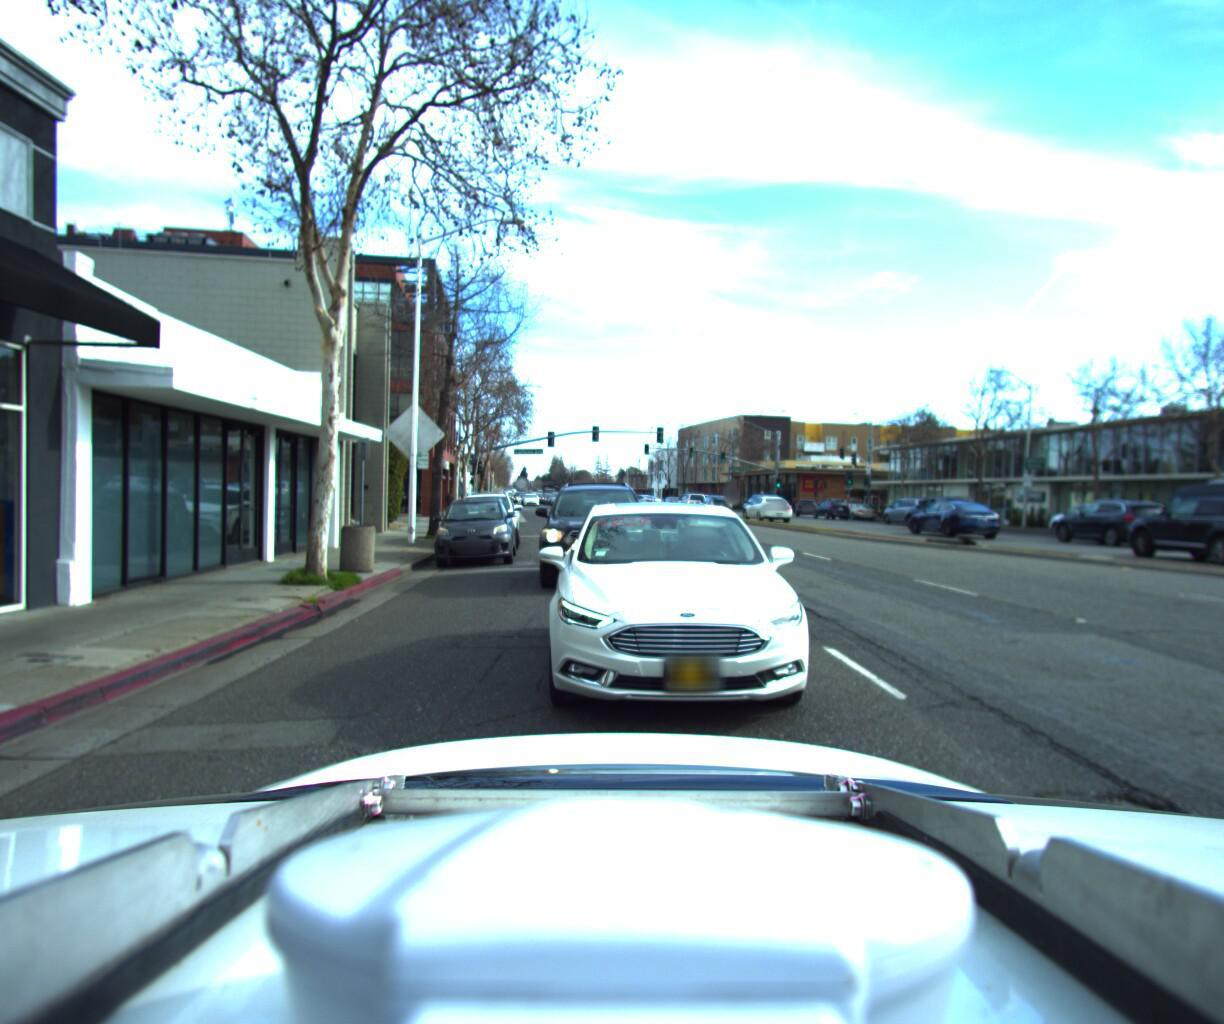car: (527, 489, 858, 769), (532, 475, 648, 591), (1102, 490, 1224, 566), (1138, 469, 1224, 548), (428, 490, 516, 565), (1042, 491, 1174, 540), (445, 485, 521, 543), (897, 490, 994, 530), (893, 486, 970, 523), (869, 488, 929, 517), (738, 487, 790, 515), (810, 488, 850, 510), (837, 498, 880, 518), (696, 486, 732, 509), (615, 487, 660, 505), (670, 486, 703, 506), (782, 493, 815, 513)
